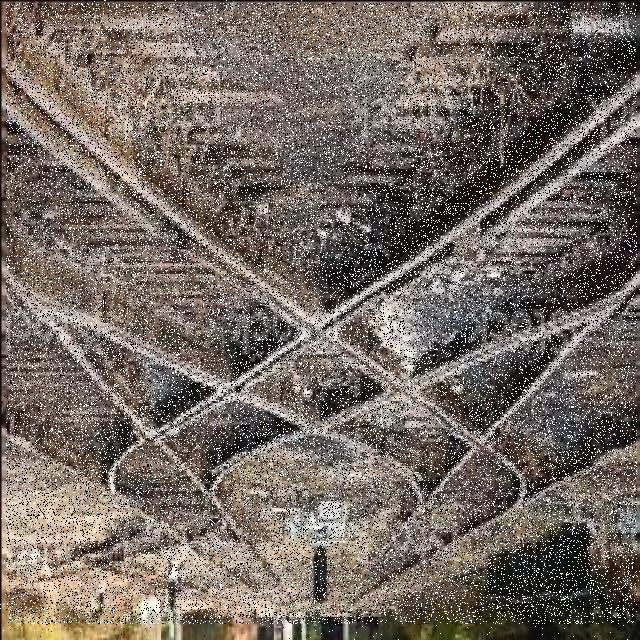rail: (6, 3, 637, 624)
